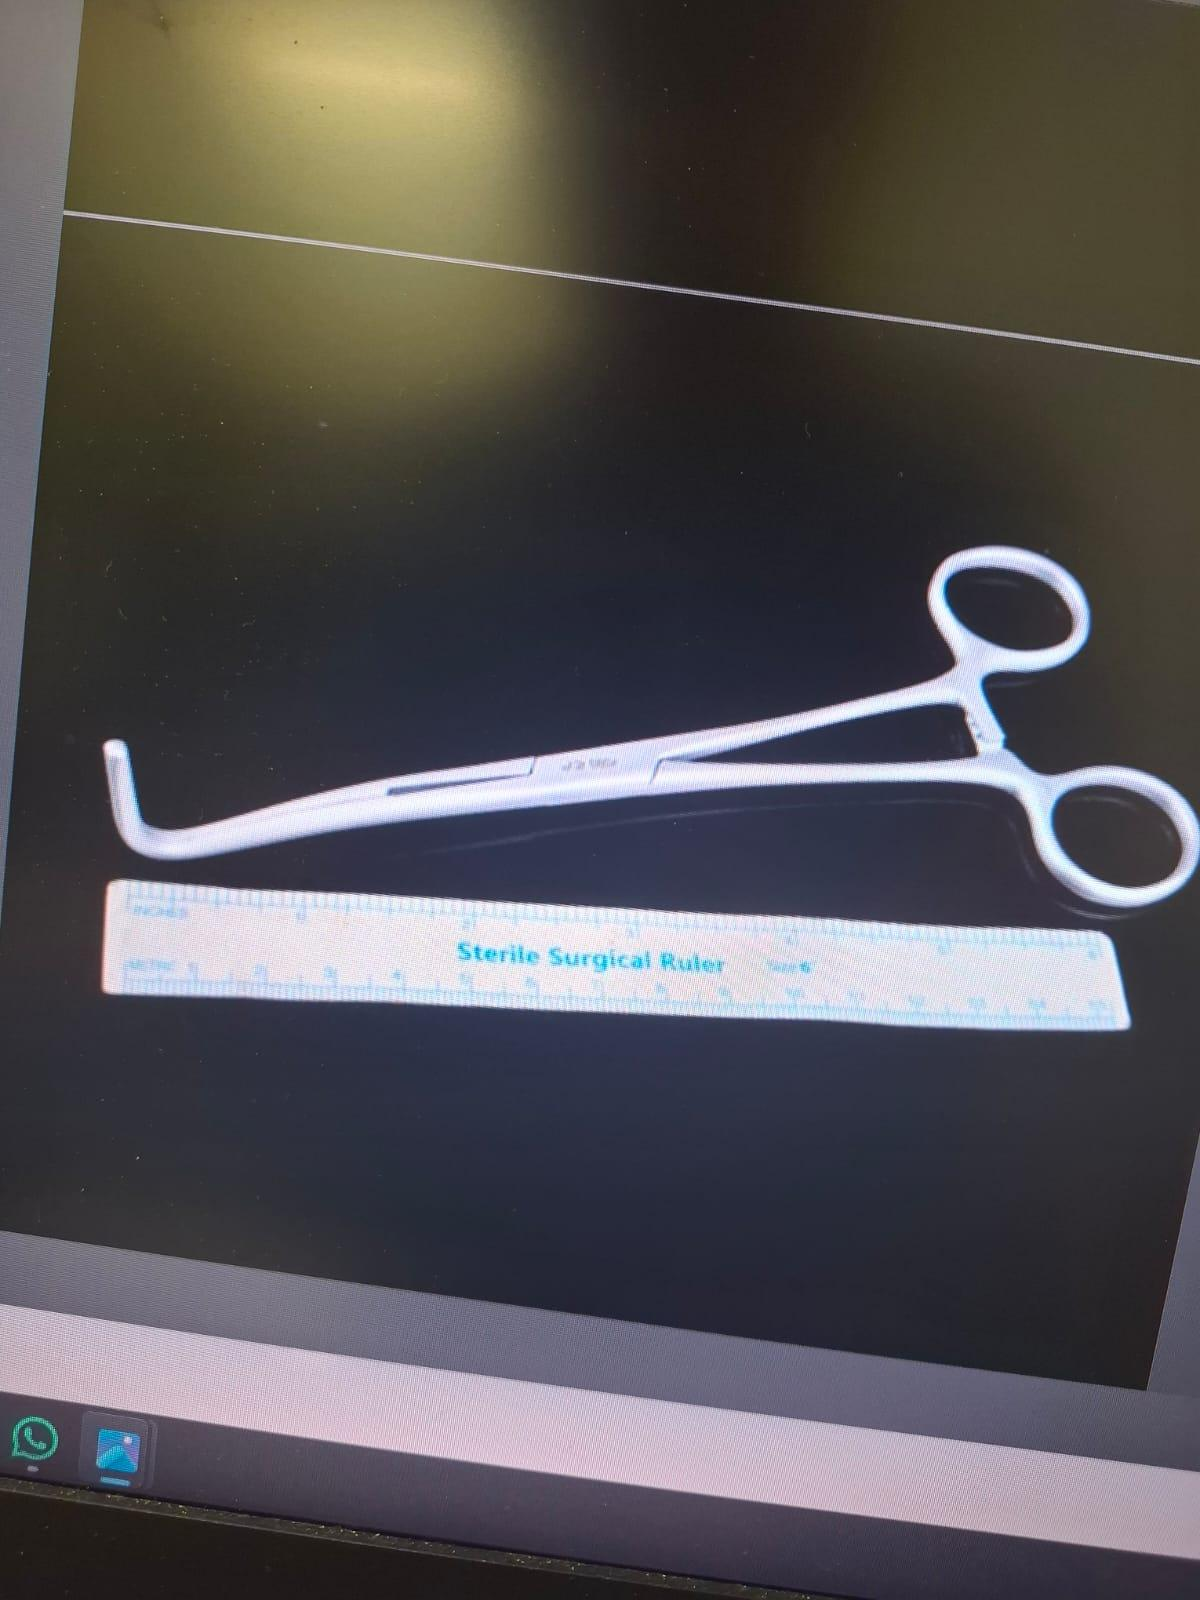Rectangle Cholecystectomy Forceps: (92, 528, 1200, 925)
